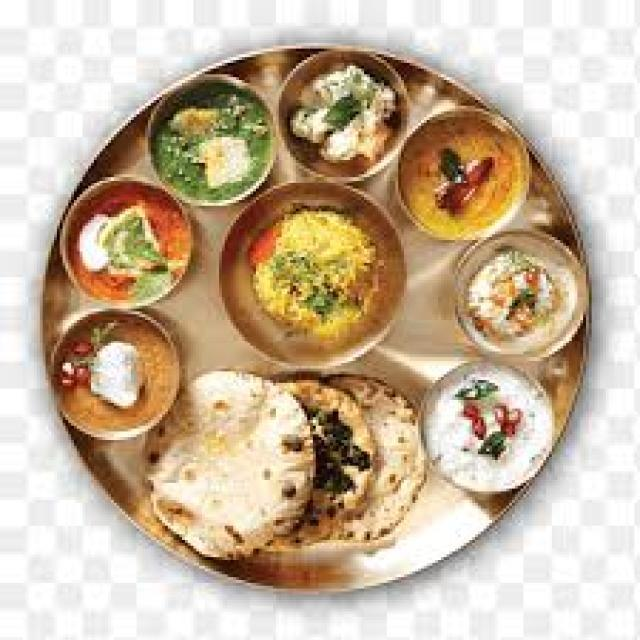curd: (420, 357, 559, 494)
dal: (160, 371, 318, 549), (232, 193, 393, 367), (395, 117, 528, 246)
raita: (419, 355, 559, 495)
rice: (228, 201, 406, 363)
roti: (158, 374, 318, 554)
sweet: (54, 307, 184, 441), (65, 185, 202, 304), (454, 245, 579, 352), (159, 94, 277, 204)
veg-fry: (284, 50, 404, 177)
